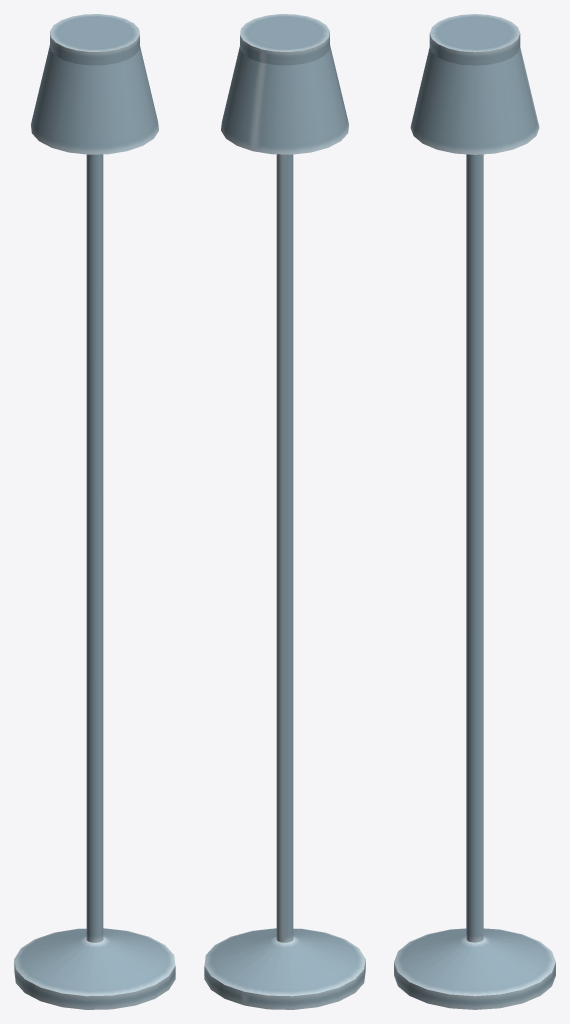
Rendered from SM_prop_Stage1_Stand_long.fbx.
The picture shows the model from 3 angles, left to right: view 1: azimuth 30°, elevation 25°; view 2: azimuth 150°, elevation 25°; view 3: azimuth 270°, elevation 25°; orthographic projection.
Parts seen in each view (by area): view 1: SM_prop_Stage1_Stand_long; view 2: SM_prop_Stage1_Stand_long; view 3: SM_prop_Stage1_Stand_long.
Part boxes in pixels (left/top/right/bottom): SM_prop_Stage1_Stand_long: left=14, top=14, right=175, bottom=1009; SM_prop_Stage1_Stand_long: left=204, top=14, right=365, bottom=1009; SM_prop_Stage1_Stand_long: left=394, top=14, right=555, bottom=1009.
Bounding box in the file's own units: 29.12 × 187 × 29.12.
1 material, 1 textured.
